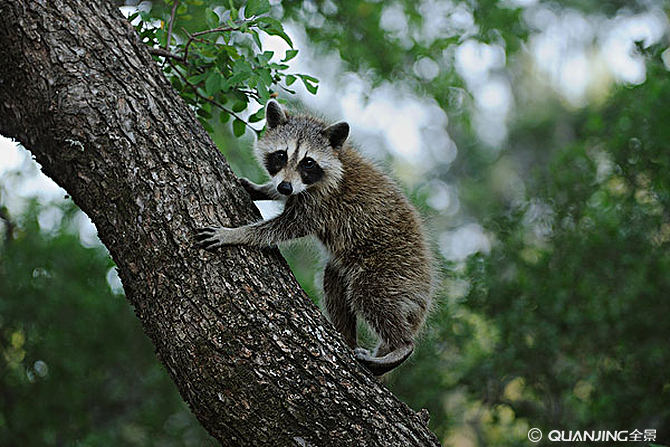raccoon: (189, 96, 449, 380)
